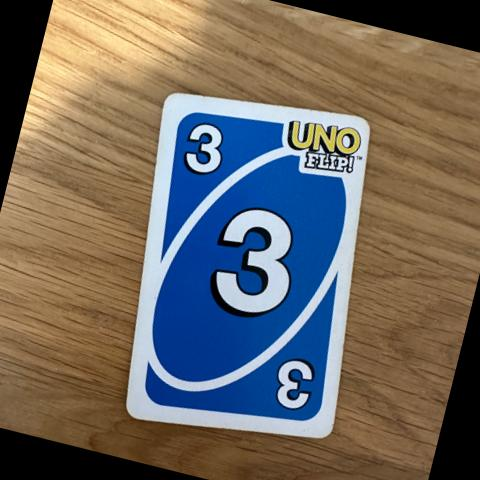3_blue: (210, 209, 292, 317), (183, 119, 224, 175), (274, 360, 313, 410)
